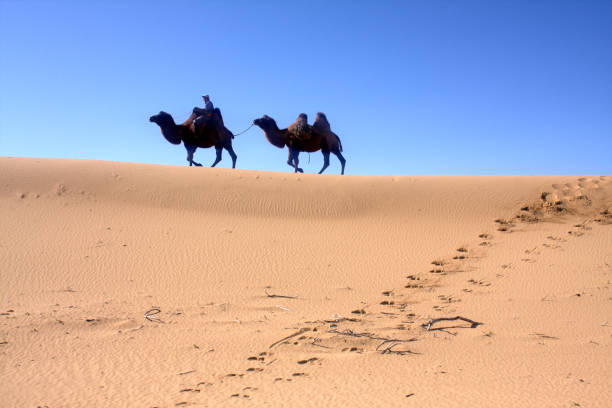animal_foot_print: (505, 177, 608, 222), (287, 113, 310, 139), (313, 112, 331, 132), (404, 274, 424, 288), (593, 209, 611, 224), (495, 218, 513, 231), (453, 246, 468, 259), (478, 233, 492, 246), (438, 295, 460, 303), (297, 357, 318, 364), (467, 279, 490, 285), (404, 282, 423, 288), (429, 267, 445, 274), (341, 347, 363, 352), (230, 393, 249, 398), (380, 300, 395, 306), (351, 309, 366, 315), (478, 233, 492, 239), (179, 388, 200, 392), (431, 260, 444, 266), (453, 255, 467, 260), (246, 367, 263, 371), (292, 372, 306, 376), (457, 247, 467, 252), (382, 290, 392, 295)
